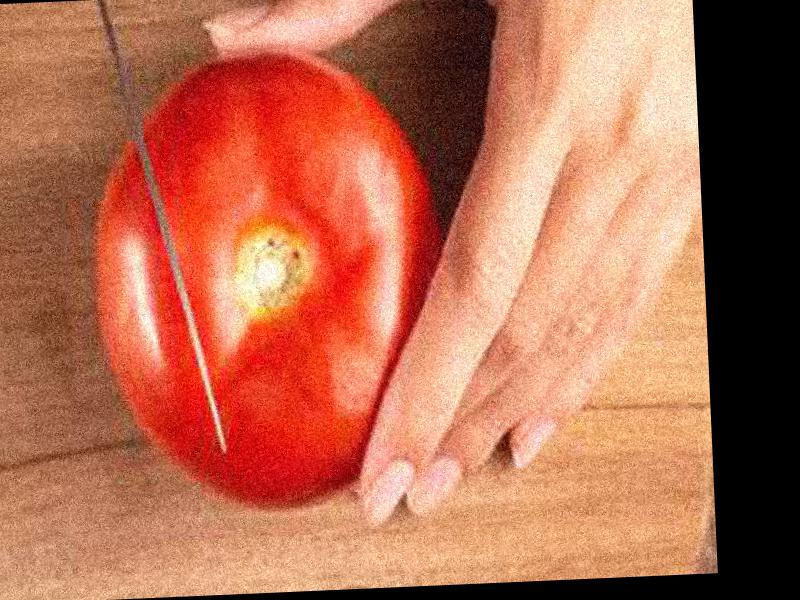Tomato: (94, 48, 455, 513)
